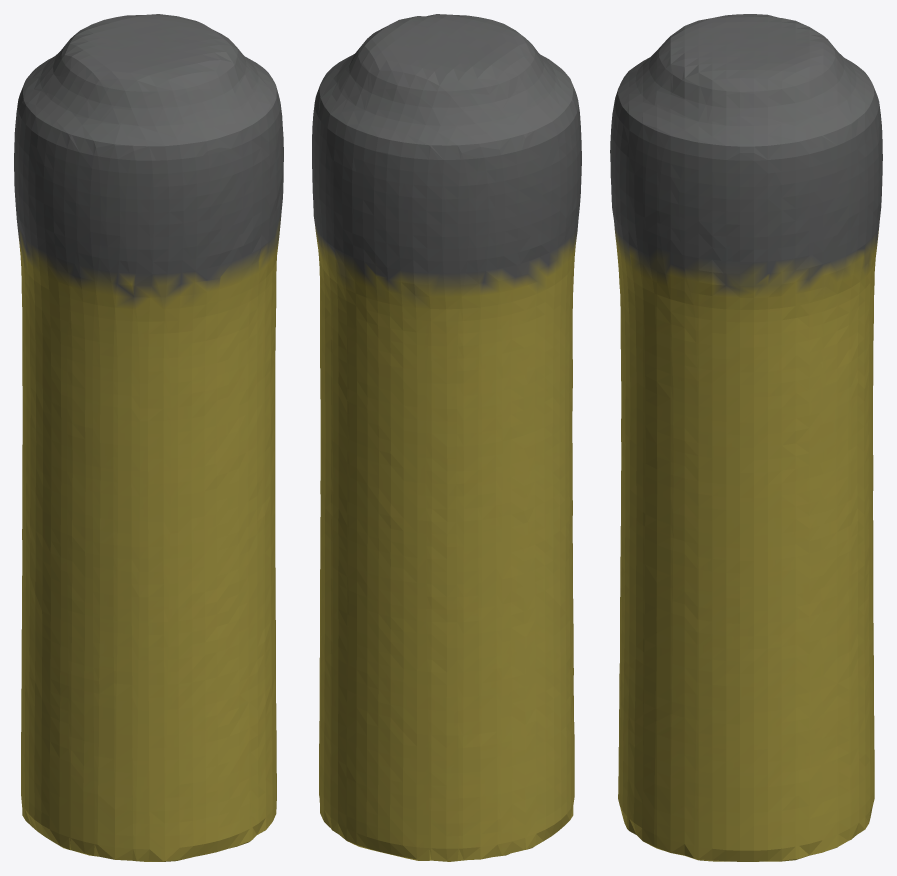
Rendered from Bullet.fbx.
The picture shows the model from 3 angles, left to right: view 1: azimuth 30°, elevation 25°; view 2: azimuth 150°, elevation 25°; view 3: azimuth 270°, elevation 25°; orthographic projection.
Parts seen in each view (by area): view 1: Bullet; view 2: Bullet; view 3: Bullet.
Part boxes in pixels (x1,y1,x2,y2): Bullet: [14, 14, 283, 861]; Bullet: [312, 14, 581, 861]; Bullet: [610, 14, 882, 861].
Size of the model in its own units: 31.61 by 99.15 by 31.83.
